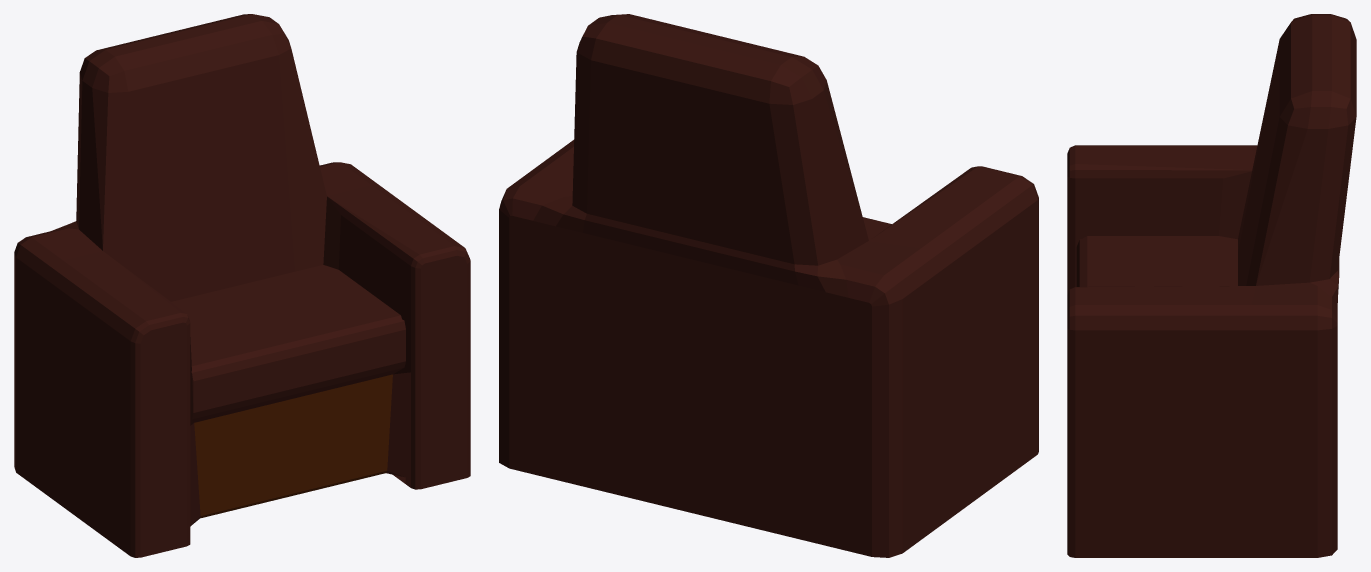
The model's file is leather chair maskwatch.fbx.
3 views of the same model, side by side, from view 1: azimuth 30°, elevation 25°; view 2: azimuth 150°, elevation 25°; view 3: azimuth 270°, elevation 25° (orthographic). The views are drawn at different scales.
Visible parts, largest first — view 1: chair; view 2: chair; view 3: chair.
Boxes of the visible parts, x1,y1,x2,y2 form: chair: (14,14,470,557); chair: (499,14,1038,557); chair: (1067,14,1356,557).
Bounding box in the file's own units: 1.08 × 1.2 × 0.7533.
